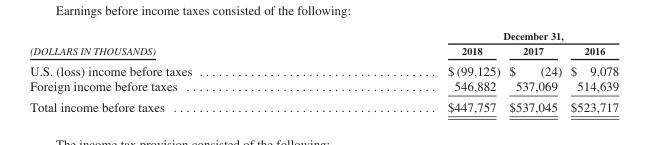table: (29, 28, 618, 113)
table column: (29, 28, 319, 113), (319, 28, 504, 113), (504, 28, 565, 113), (565, 28, 618, 113)
table column header: (29, 28, 618, 59)
table row: (29, 59, 618, 78), (29, 78, 618, 96), (29, 42, 618, 59), (29, 96, 618, 113), (29, 28, 618, 42)
table spanning cell: (29, 28, 319, 59), (319, 28, 618, 42)
